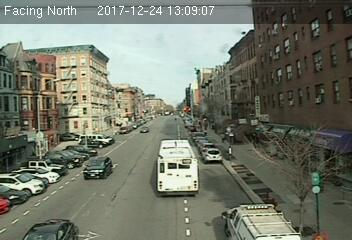bus: (156, 139, 200, 197)
car: (83, 157, 113, 180), (202, 149, 224, 162)
truck: (222, 197, 302, 240)
